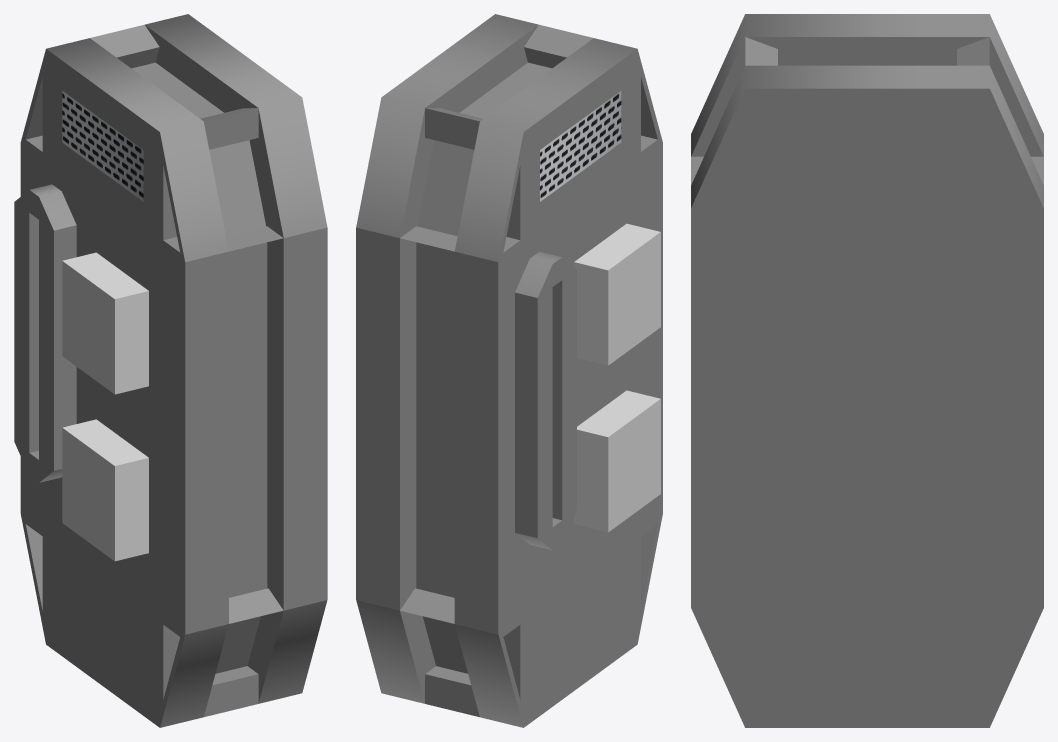
Rendered from Switch.FBX.
The picture shows the model from 3 angles, left to right: view 1: azimuth 30°, elevation 25°; view 2: azimuth 150°, elevation 25°; view 3: azimuth 270°, elevation 25°; orthographic projection. The views are drawn at different scales.
Visible parts, largest first — view 1: Box001, Box002, Box003; view 2: Box001, Box003, Box002; view 3: Box001.
Part boxes in pixels (x1,y1,x2,y2): Box001: (14, 14, 327, 727); Box002: (62, 252, 148, 394); Box003: (62, 419, 148, 561); Box001: (356, 14, 662, 727); Box003: (574, 390, 660, 532); Box002: (574, 223, 660, 365); Box001: (691, 14, 1043, 727).
Bounding box in the file's own units: 7.75 × 25 × 12.5.
2 materials, 1 textured.
